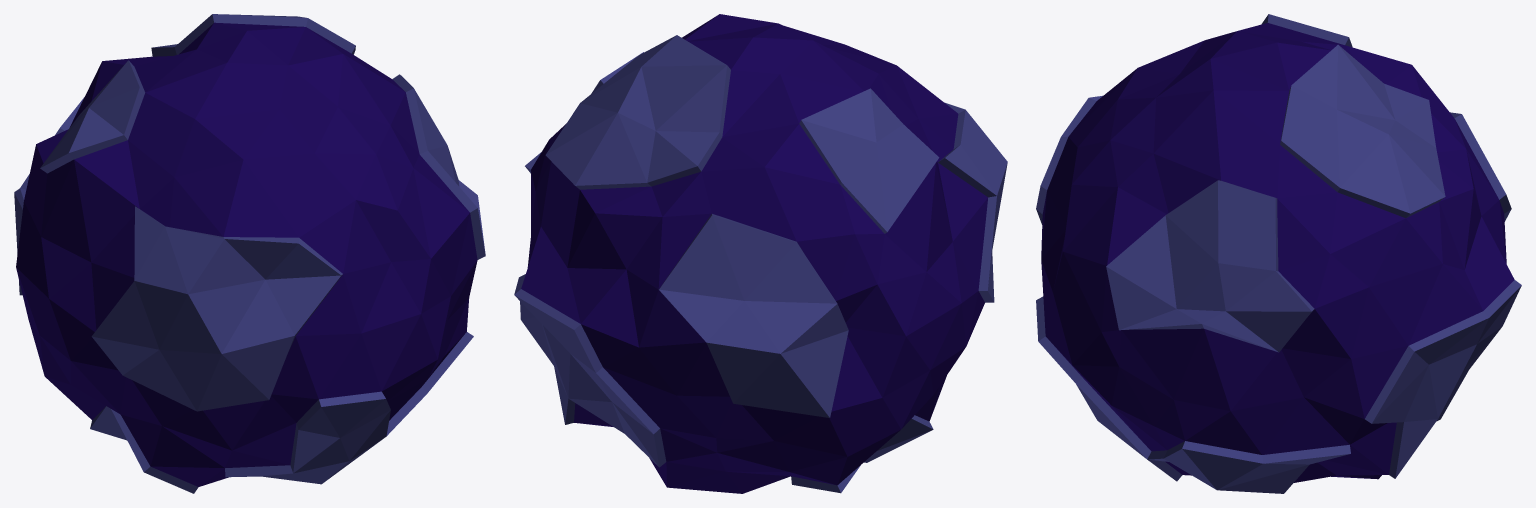
File: Neptun_9.fbx
The picture shows the model from 3 angles, left to right: view 1: azimuth 30°, elevation 25°; view 2: azimuth 150°, elevation 25°; view 3: azimuth 270°, elevation 25°; orthographic projection.
Parts seen in each view (by area): view 1: Icosphere.007; view 2: Icosphere.007; view 3: Icosphere.007.
Part boxes in pixels (box(x1,y1,x2,y2)): Icosphere.007: box(14, 14, 485, 493); Icosphere.007: box(514, 14, 1007, 493); Icosphere.007: box(1036, 14, 1521, 493).
Bounding box in the file's own units: 781 × 777 × 794.
